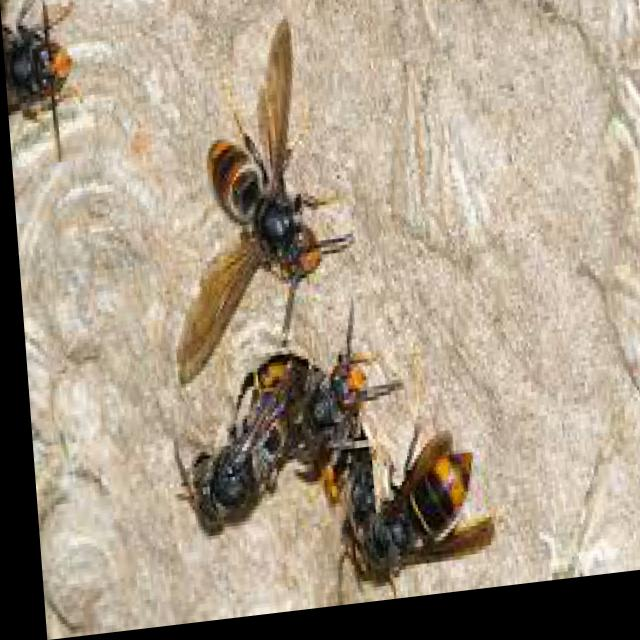Vespa Velutina: (147, 18, 359, 385)
